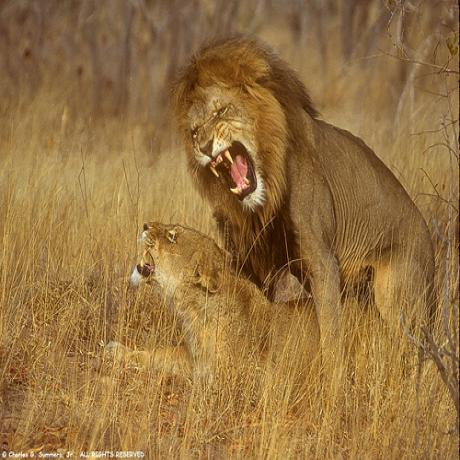Lion: (177, 33, 437, 344), (106, 221, 379, 386)
